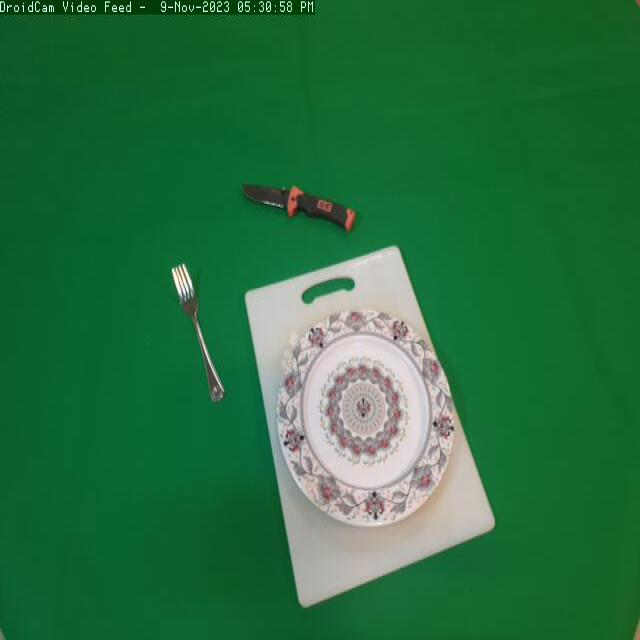cutting board: (239, 238, 506, 616)
fork: (163, 258, 235, 415)
knife: (230, 167, 368, 245)
plate: (276, 303, 455, 539)
